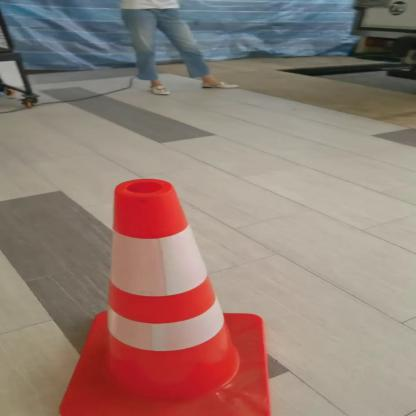cone: (21, 170, 323, 416)
